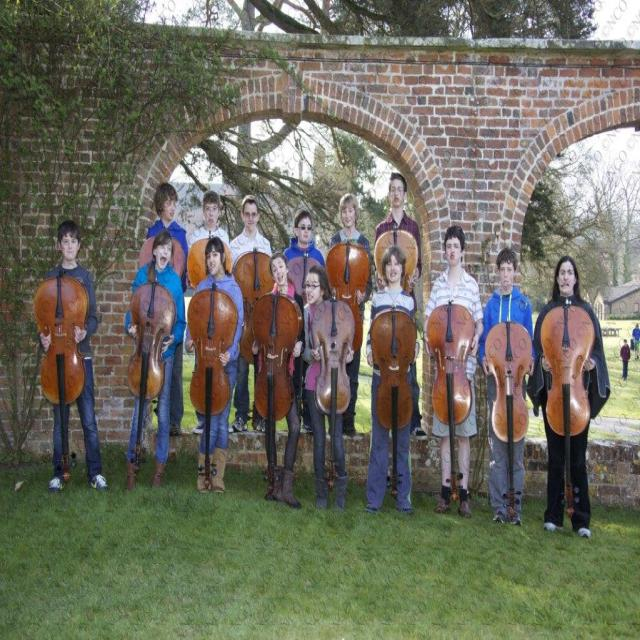cello: (32, 275, 92, 482), (540, 302, 596, 522), (186, 286, 242, 492), (425, 297, 476, 508), (249, 290, 300, 496), (368, 302, 419, 503), (483, 318, 534, 518), (127, 281, 178, 465), (310, 296, 355, 492), (233, 248, 274, 429), (324, 241, 364, 354), (374, 225, 418, 293), (140, 229, 190, 279), (190, 232, 229, 284)
